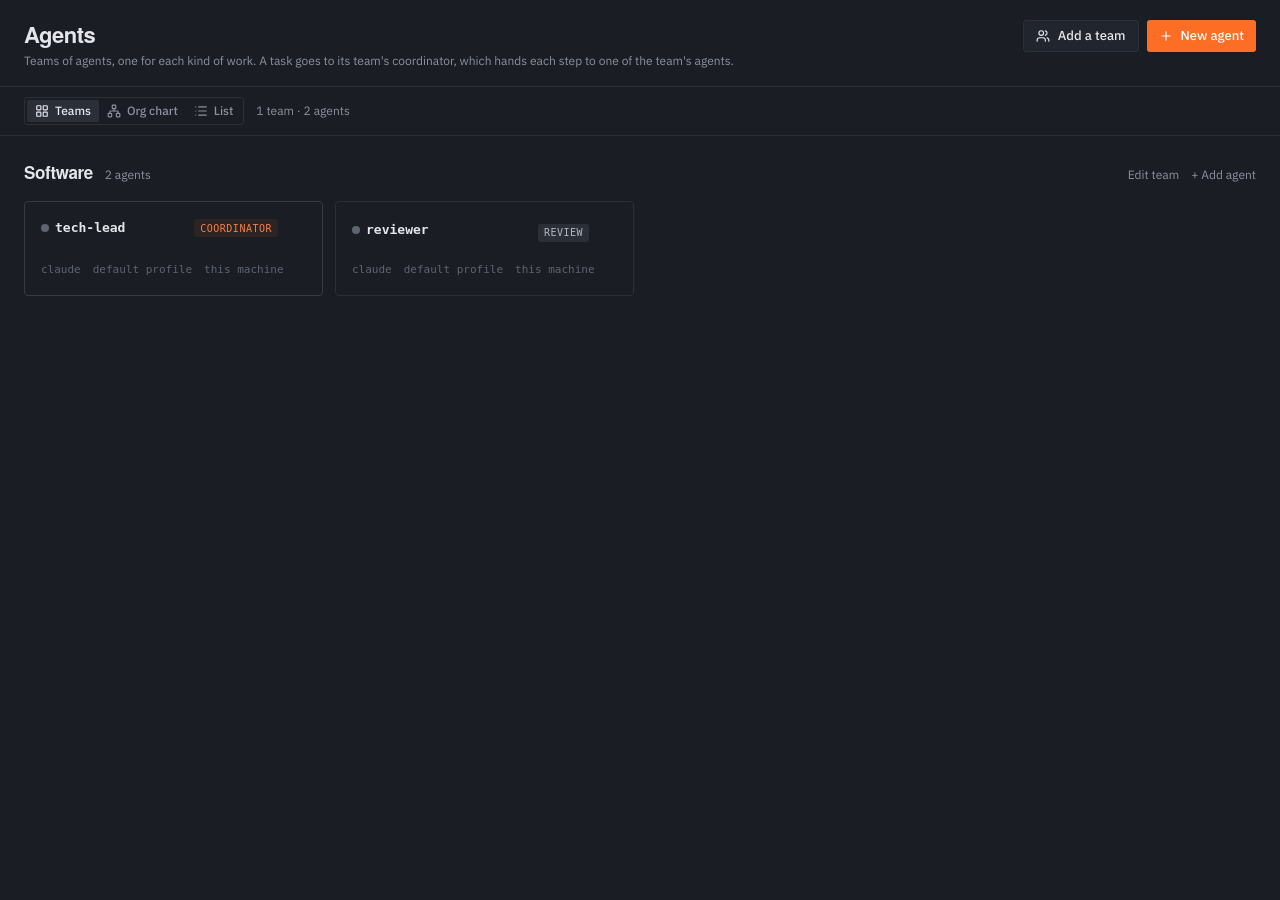
it: New team: focus and scroll › creating the team puts focus on its heading on the page
Click the button "Add a team" at coordinates (1081, 36), box [1023,20,1139,52]
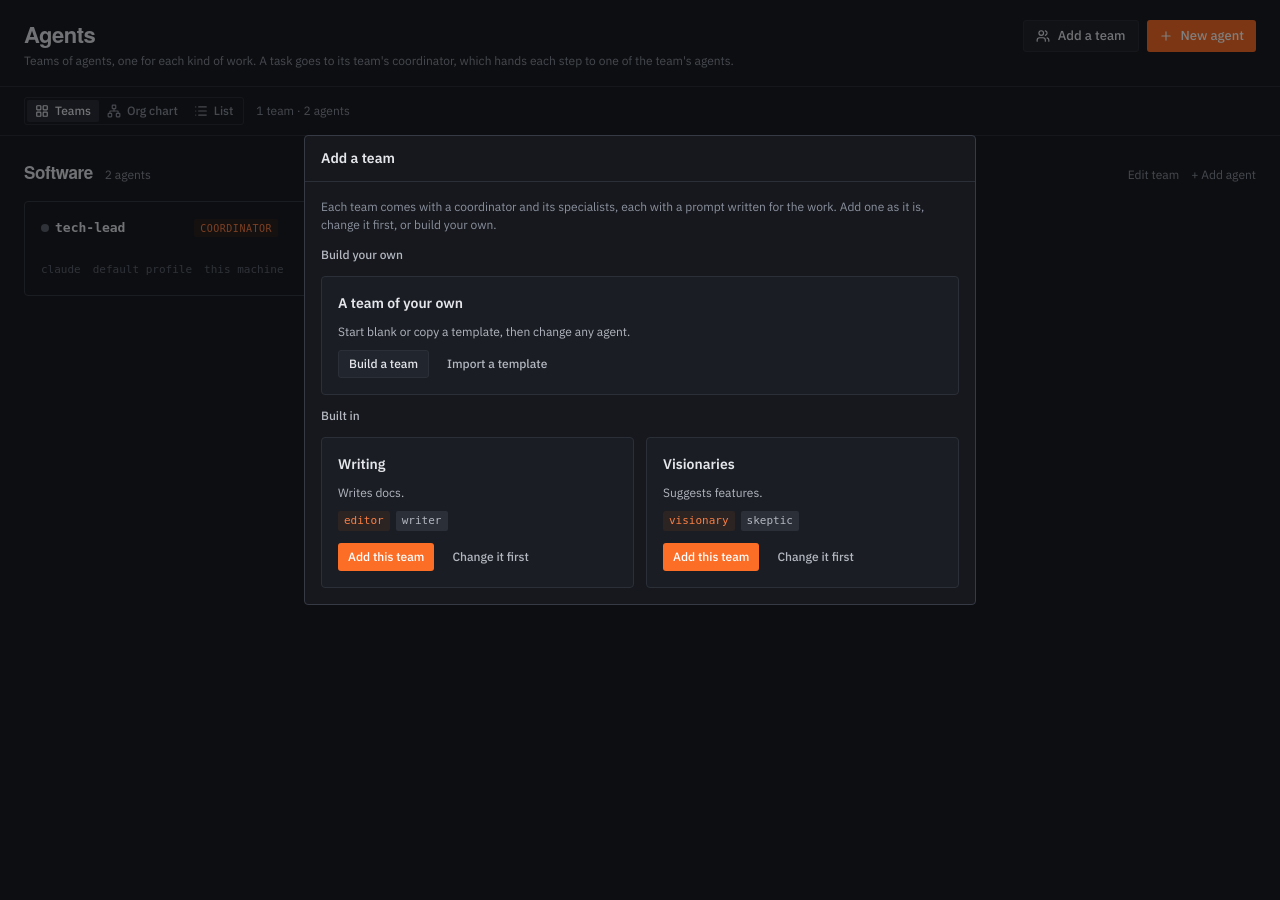
Click the button with aria-label "Change it first, Writing" at coordinates (491, 557), box [442,543,539,571]
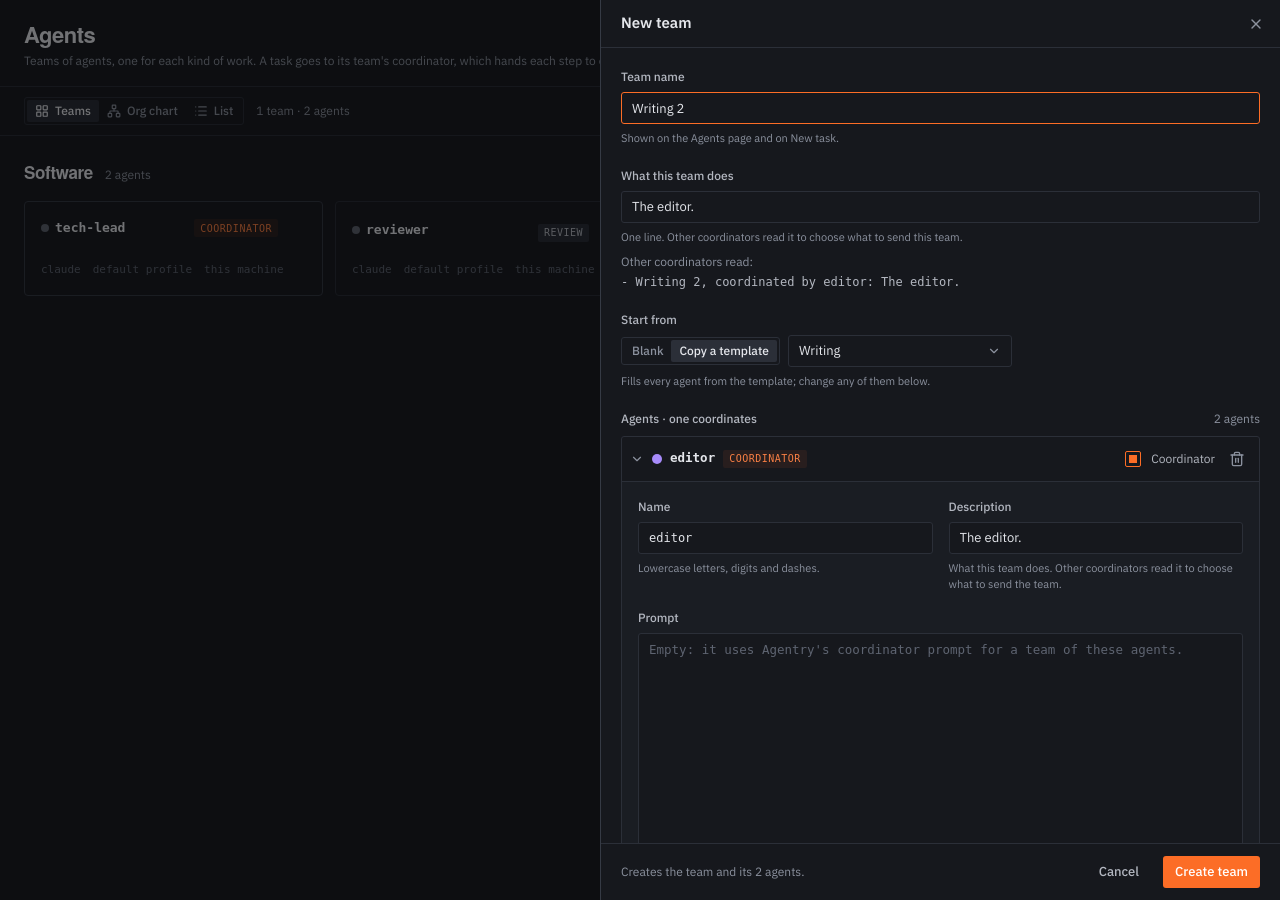
Click the button "Create team" at coordinates (1212, 872), box [1163,856,1260,888]
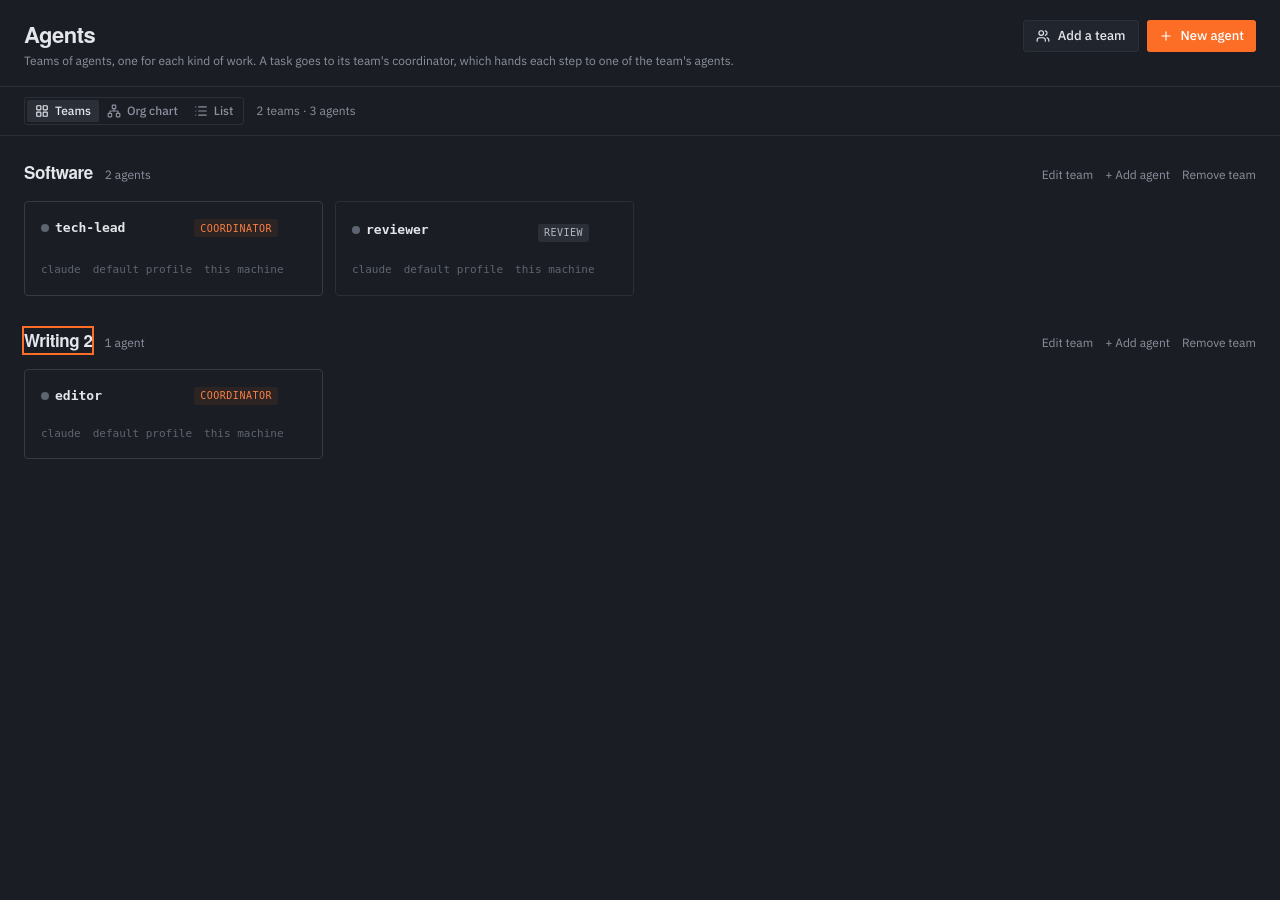
Now the heading "New team" is gone
